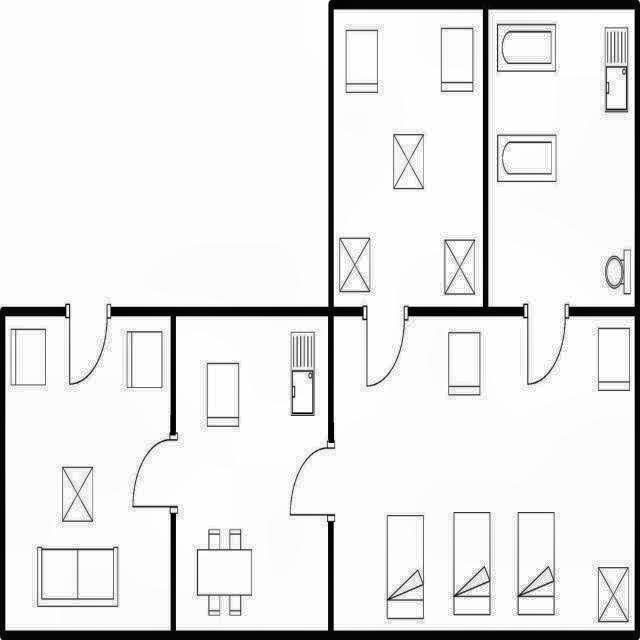room: (334, 319, 635, 630), (6, 317, 170, 629), (177, 315, 328, 631), (333, 11, 483, 306), (488, 8, 634, 307)
